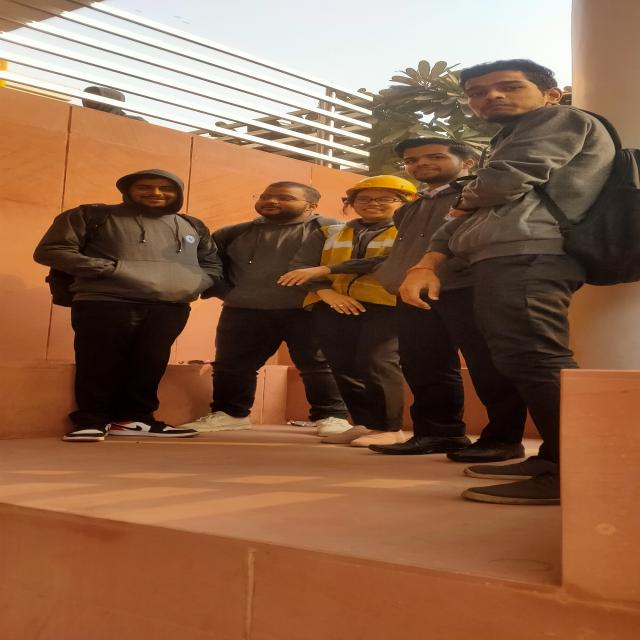safe: (324, 176, 402, 442)
unsafe: (436, 51, 624, 480), (40, 166, 204, 434), (377, 134, 490, 463), (214, 177, 325, 434)
